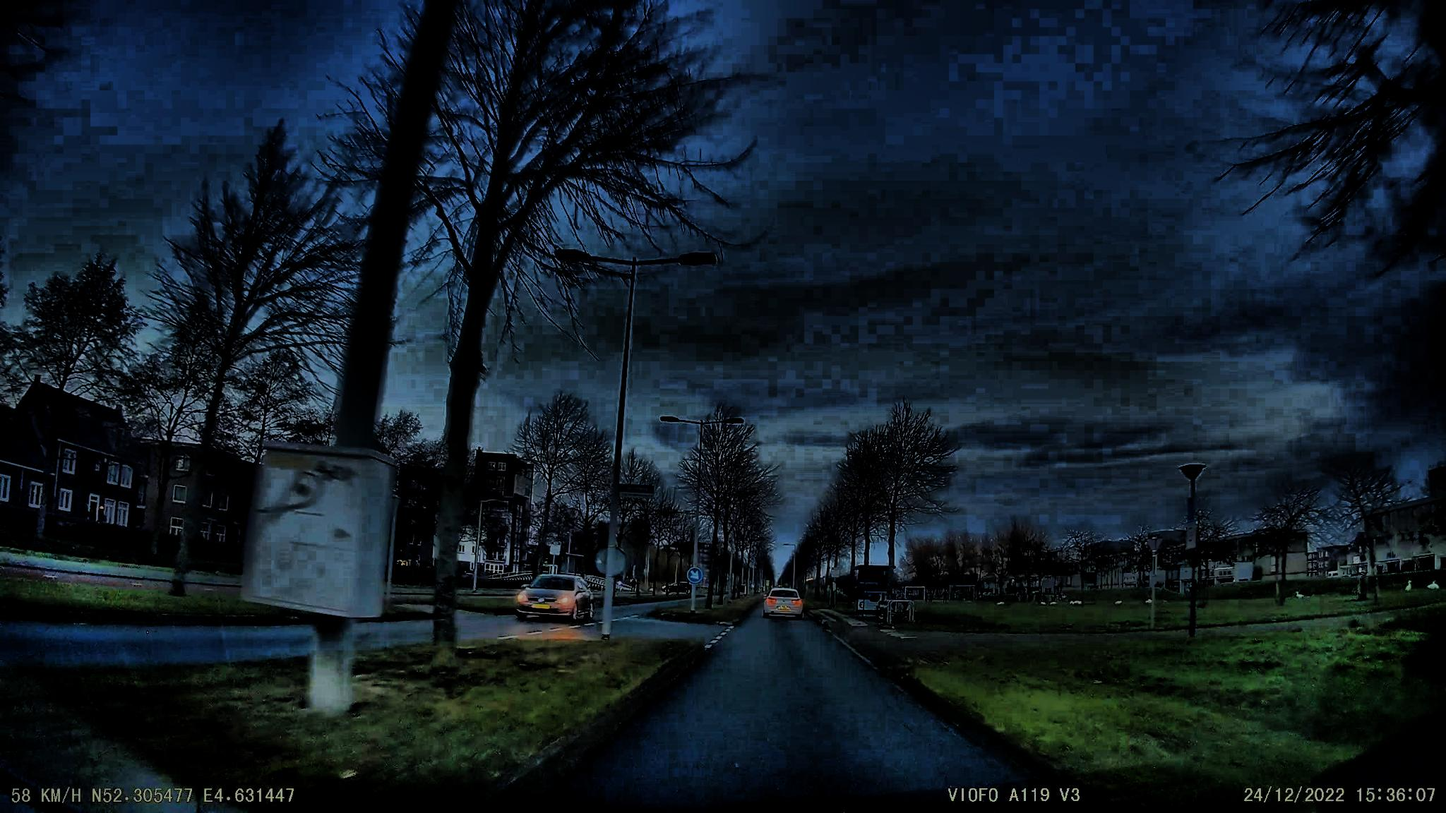Roads: (531, 611, 1118, 813)
